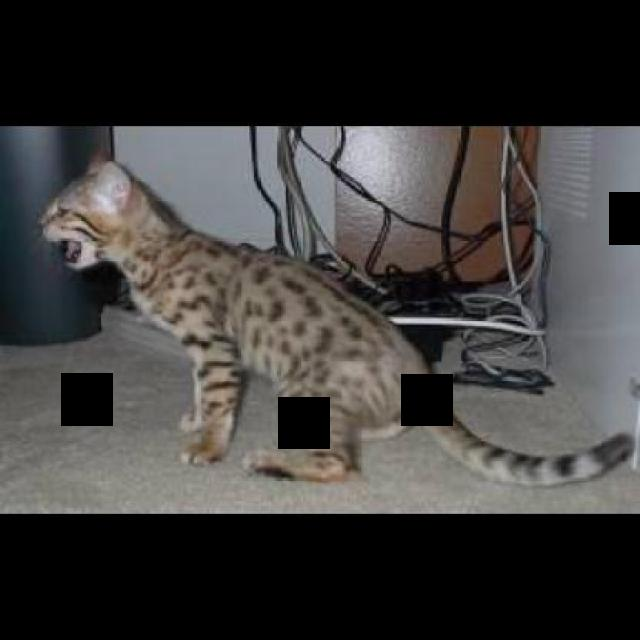unauthorized: (35, 146, 634, 486)
